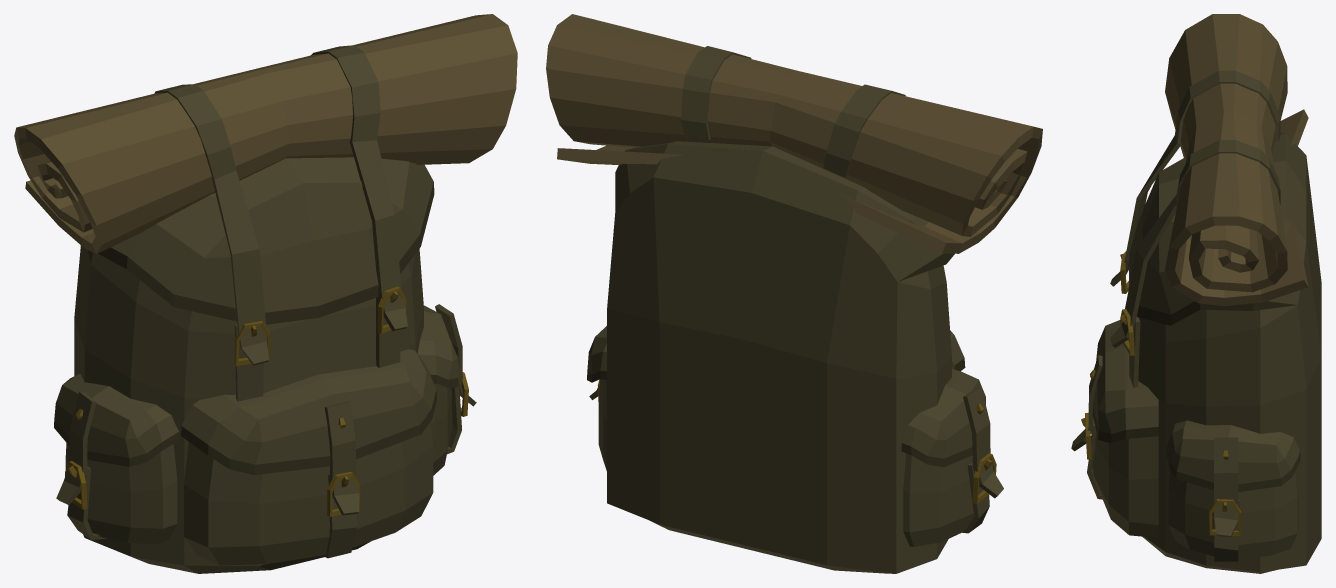
File: backpack.glb
3 views of the same model, side by side, from view 1: azimuth 30°, elevation 25°; view 2: azimuth 150°, elevation 25°; view 3: azimuth 270°, elevation 25° (orthographic). The views are drawn at different scales.
Parts seen in each view (by area): view 1: backpack; view 2: backpack; view 3: backpack.
Boxes of the visible parts, bbox=[...] form: backpack: bbox=[14, 14, 517, 573]; backpack: bbox=[546, 14, 1042, 573]; backpack: bbox=[1071, 14, 1321, 573].
Size of the model in its own units: 0.5894 by 0.55 by 0.3078.
